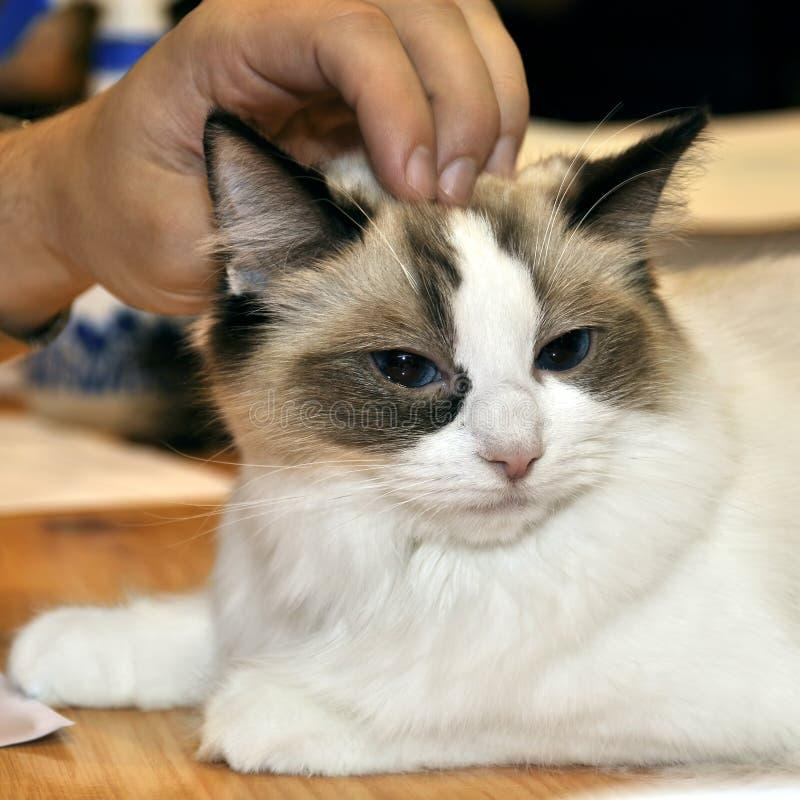ragdoll: (191, 91, 716, 567)
